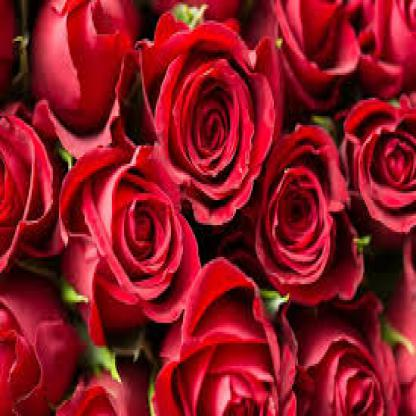Rose-Mawar: (1, 3, 416, 411)
